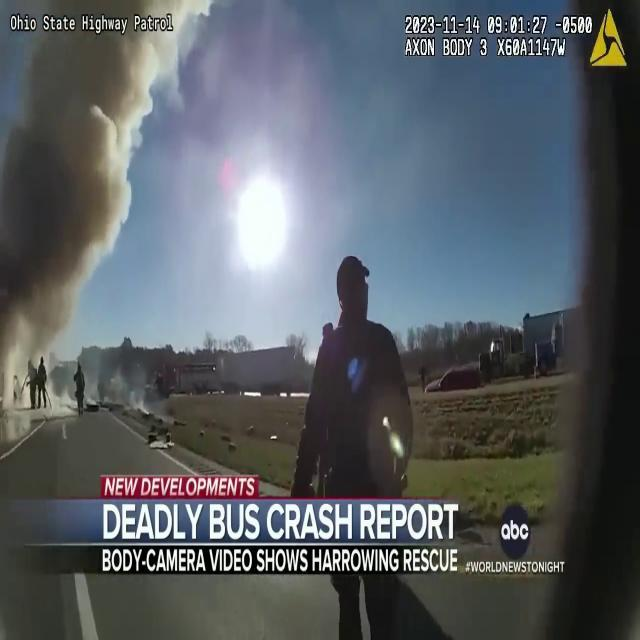Smoke: (0, 7, 156, 373)
